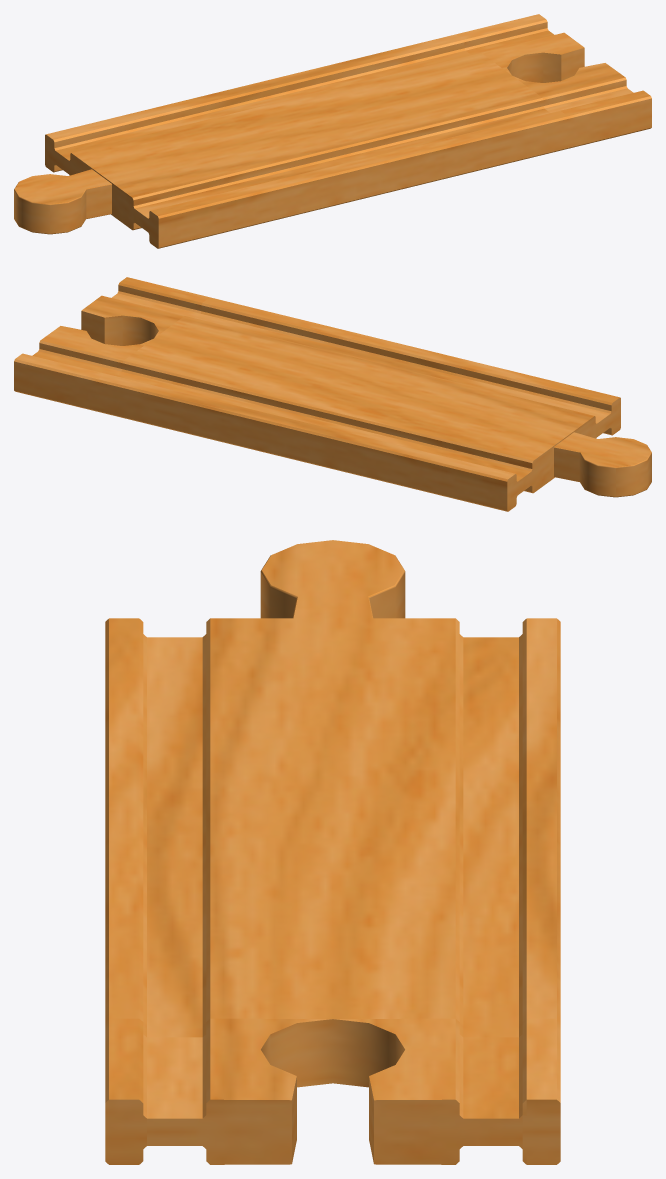
File: WoodenStraitTrackShort.fbx
3 renders of one model, top to bottom at view 1: azimuth 30°, elevation 25°; view 2: azimuth 150°, elevation 25°; view 3: azimuth 270°, elevation 25°, orthographic. The views are drawn at different scales.
Visible parts, largest first — view 1: TrackStraitShort; view 2: TrackStraitShort; view 3: TrackStraitShort.
Boxes of the visible parts, bbox=[...] form: TrackStraitShort: bbox=[14, 14, 651, 248]; TrackStraitShort: bbox=[14, 277, 651, 511]; TrackStraitShort: bbox=[105, 540, 560, 1164].
Bounding box in the file's own units: 7.01 × 0.3786 × 2.4.
